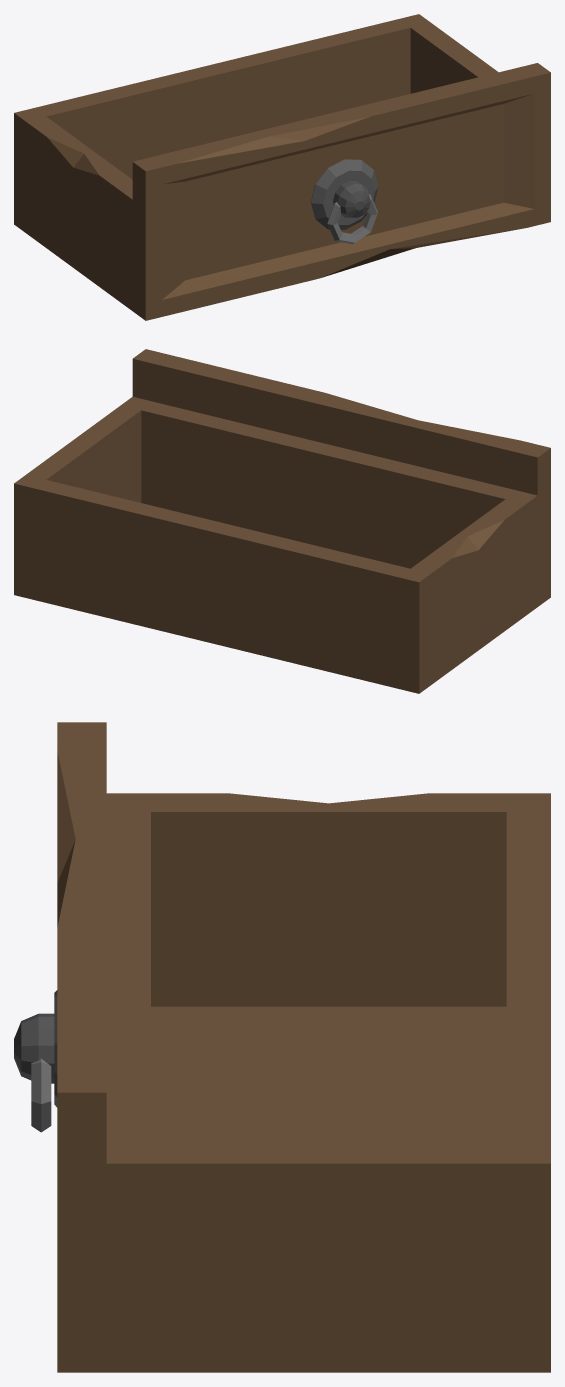
File: Shelving_Cabinet_003.fbx
3 views of the same model, one above another, from view 1: azimuth 30°, elevation 25°; view 2: azimuth 150°, elevation 25°; view 3: azimuth 270°, elevation 25° (orthographic). The views are drawn at different scales.
Parts seen in each view (by area): view 1: Shelving_Cabinet_003; view 2: Shelving_Cabinet_003; view 3: Shelving_Cabinet_003.
Boxes of the visible parts, x1,y1,x2,y2 form: Shelving_Cabinet_003: (14, 14, 550, 320); Shelving_Cabinet_003: (14, 349, 550, 693); Shelving_Cabinet_003: (14, 722, 550, 1372).
Size of the model in its own units: 0.428 by 0.151 by 0.2623.
